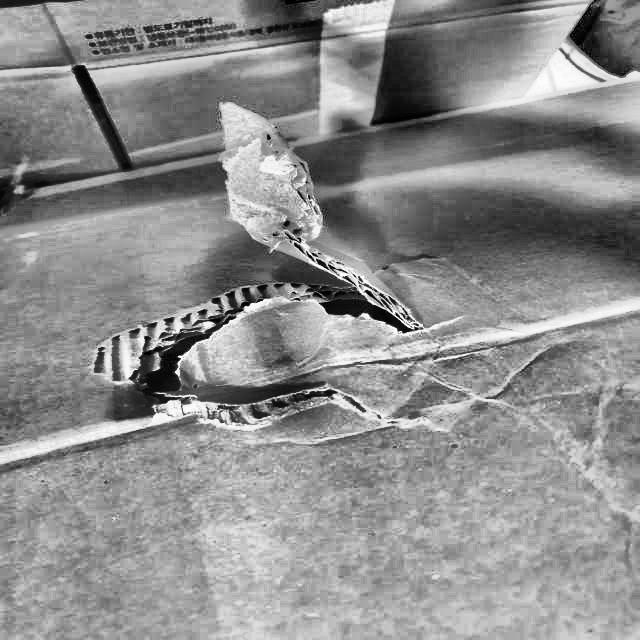box: (0, 74, 639, 639)
hole: (106, 273, 408, 428)
